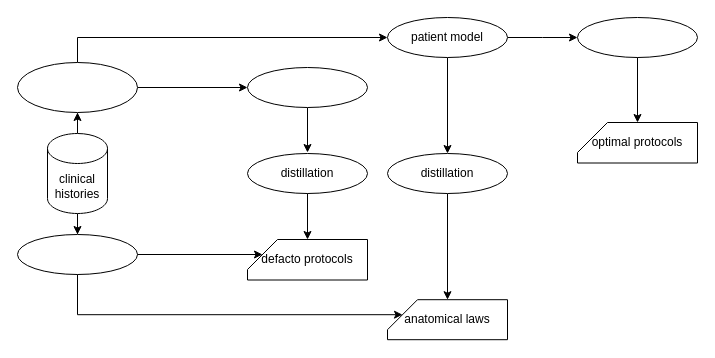
Image size: 715x358. Some labels were removed from this diagram. The shapes that lost their labels are listed below. From the top down, each one's centre as x and y in pixels, then its label:
At (637,37): "PIRL".
At (77,87): "supervised learning".
At (307,87): "doctor model".
At (77,254): "PBE".
